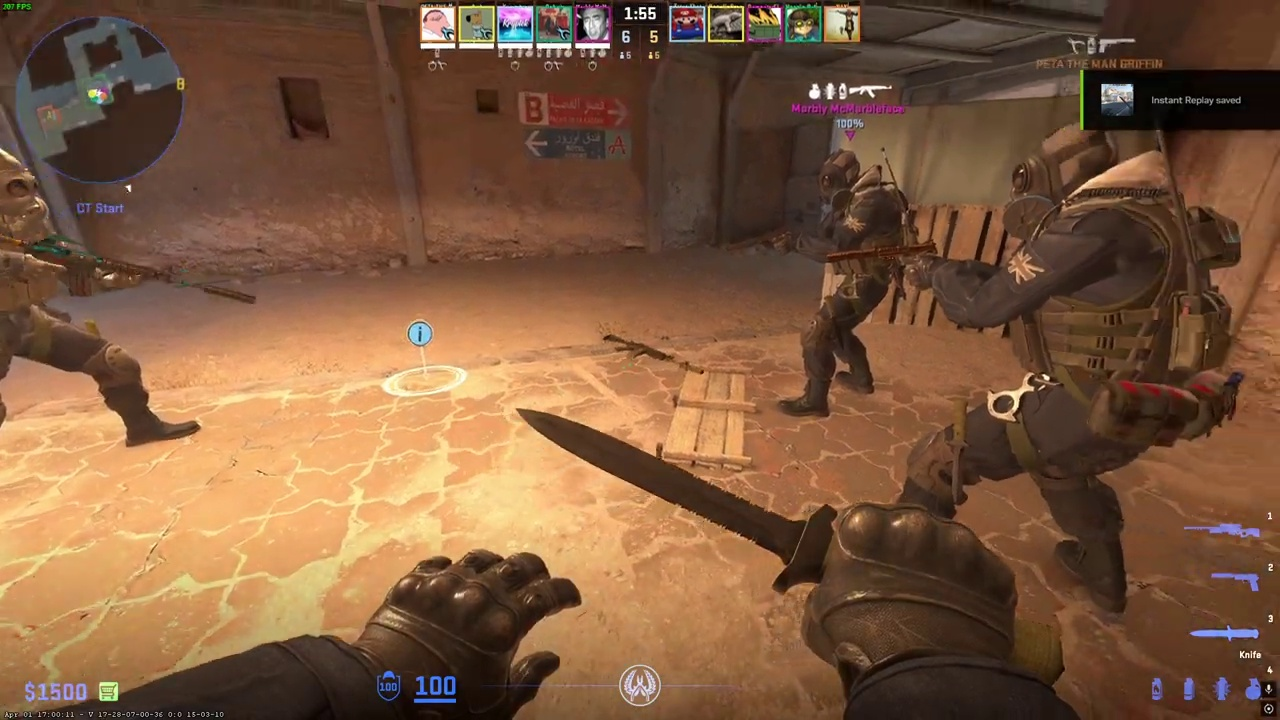CT: (922, 119, 1228, 612), (0, 149, 154, 450), (779, 148, 911, 418)
